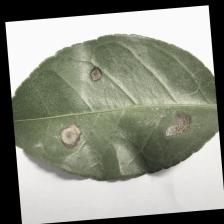canker: (38, 54, 128, 148)
